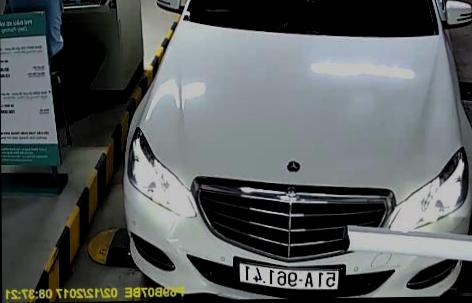License_Plate: (234, 263, 340, 293)
